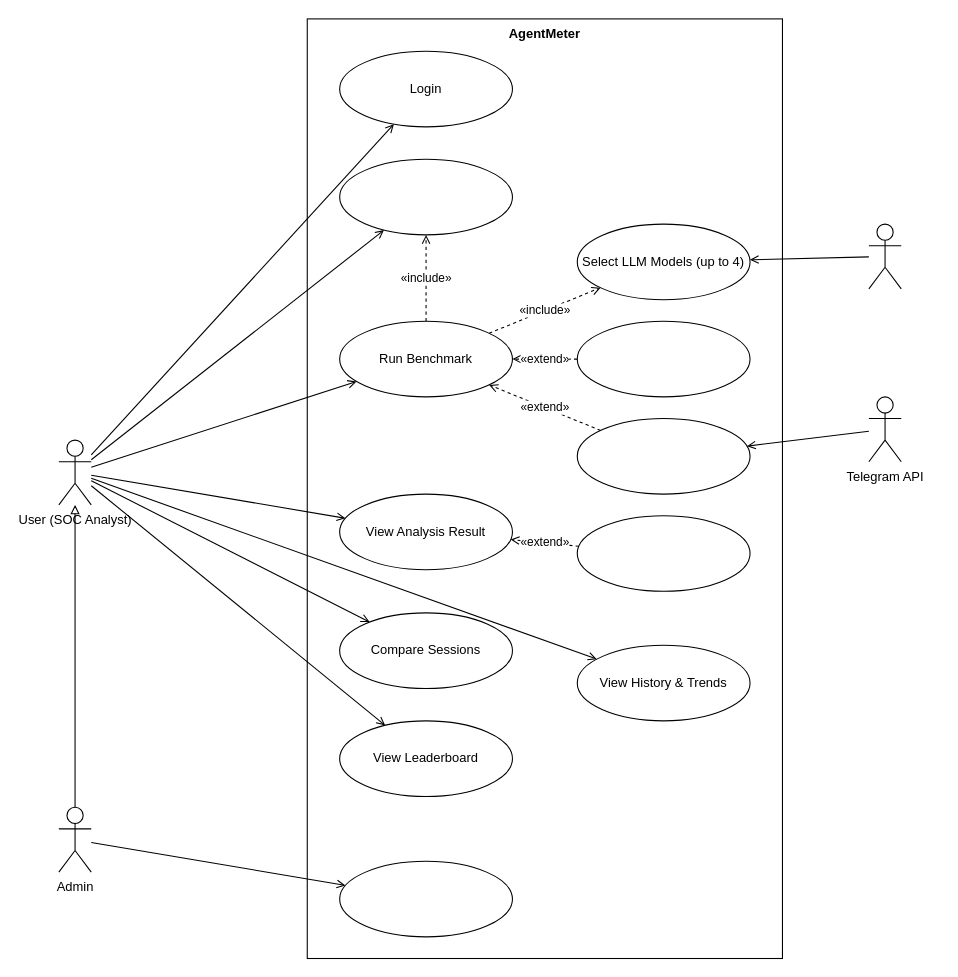
This 958x977 diagram has some shape labels left out. The shapes that lost their labels are listed below. From the top down, each one's box as (x1, y1, x2, y2) in pixels, then its label:
(339, 158, 512, 235): Upload Network Flow Data (CSV / PCAP)
(868, 223, 901, 289): Hugging Face Hub
(576, 320, 750, 397): Configure Agent Pipeline
(576, 417, 750, 494): Notify Benchmark Completion
(576, 515, 750, 591): Export Report (PDF / CSV)
(339, 860, 512, 937): Manage Users & Limits
